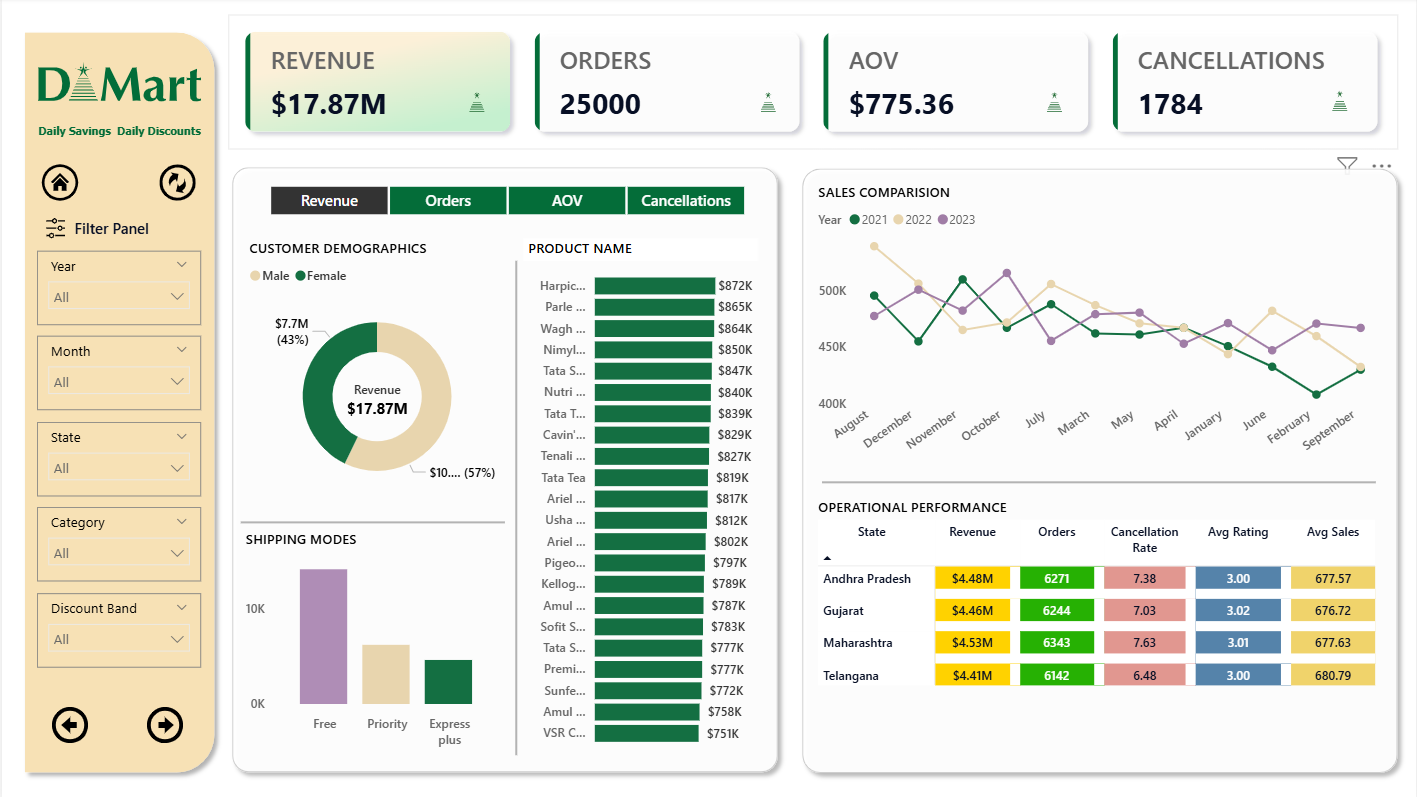

What the dashboard file says about the page in this screenshot:
{"tool":"powerbi","page":{"name":"Page 1","canvas":[1400,800],"ordinal":0},"visuals":[{"type":"shape","box":[13.5,25.5,205.6,750.4],"z":0},{"type":"image","box":[31.5,39,171.1,91.6],"z":1000},{"type":"cardVisual","fields":{"Data":["Dmart+Dataset_Tableau (1).Revenue","Dmart+Dataset_Tableau (1).Orders","Dmart+Dataset_Tableau (1).AOV","Dmart+Dataset_Tableau (1).Cancellations"]},"box":[224,17.4,1157,133],"z":2000},{"type":"image","box":[1417.2,104.9,25.9,25.9],"z":3000},{"type":"shape","box":[218.5,159.5,557.6,616.6],"z":4000},{"type":"donutChart","title":"CUSTOMER DEMOGRAPHICS","fields":{"Y":["Dmart+Dataset_Tableau (1).Revenue"],"Category":["Dmart+Dataset_Tableau (1).Gender"]},"box":[239.9,238.6,262.7,268.1],"z":5000},{"type":"slicer","fields":{"Values":["Metrics.Metrics"]},"box":[239.9,181,518.8,41.6],"z":6000},{"type":"cardVisual","fields":{"Data":["Dmart+Dataset_Tableau (1).Revenue"]},"box":[315,359.3,112.6,79.1],"z":7000},{"type":"barChart","title":"PRODUCT NAME","fields":{"Y":["Dmart+Dataset_Tableau (1).Revenue"],"Category":["Dmart+Dataset_Tableau (1).Product Name"]},"box":[516.1,238.6,231.9,512.1],"z":8000},{"type":"shape","box":[782.8,160.9,607,616],"z":9000},{"type":"lineChart","title":"SALES COMPARISION","fields":{"Category":["Dmart+Dataset_Tableau (1).Month"],"Series":["Dmart+Dataset_Tableau (1).Year"],"Y":["Dmart+Dataset_Tableau (1).Total Sales"]},"box":[803,183,564.3,286.9],"z":10000},{"type":"clusteredColumnChart","title":"SHIPPING MODES","fields":{"Category":["Dmart+Dataset_Tableau (1).Ship Mode"],"Y":["Dmart+Dataset_Tableau (1).Orders"]},"box":[235.9,526.8,261.4,223.9],"z":11000},{"type":"pivotTable","title":"OPERATIONAL PERFORMANCE","fields":{"Rows":["Dmart+Dataset_Tableau (1).State","Dmart+Dataset_Tableau (1).City"],"Values":["Dmart+Dataset_Tableau (1).Revenue","Dmart+Dataset_Tableau (1).Orders","Dmart+Dataset_Tableau (1).Cancellation Rate","Avg(Dmart+Dataset_Tableau (1).Rating)","Avg(Dmart+Dataset_Tableau (1).Sales)"]},"box":[803,494.6,564.3,248],"z":12000},{"type":"image","box":[455.8,88.5,29.5,29.5],"z":13000},{"type":"image","box":[1307,88,32.2,29.5],"z":14000},{"type":"image","box":[1026.8,88.5,29.5,29.5],"z":15000},{"type":"image","box":[744,88.5,29.5,29.5],"z":16000},{"type":"textbox","box":[31.3,116.8,171.2,34],"z":17000},{"type":"shape","box":[235.9,506.7,261.4,25.5],"z":18000},{"type":"shape","box":[502.7,261.4,13.4,489.3],"z":19000},{"type":"shape","box":[811,475.9,548.3,8],"z":20000},{"type":"slicer","fields":{"Values":["Dmart+Dataset_Tableau (1).Year"]},"box":[34.9,250.7,162.2,73.7],"z":21000},{"type":"slicer","fields":{"Values":["Dmart+Dataset_Tableau (1).Month"]},"box":[34.9,335.1,162.2,73.7],"z":22000},{"type":"slicer","fields":{"Values":["Dmart+Dataset_Tableau (1).Category"]},"box":[34.9,505,162.2,73.7],"z":23000},{"type":"slicer","fields":{"Values":["Dmart+Dataset_Tableau (1).State"]},"box":[34.9,420.9,162.2,73.7],"z":24000},{"type":"slicer","fields":{"Values":["Dmart+Dataset_Tableau (1).Discount Band"]},"box":[34.9,590,162.2,73.7],"z":25000},{"type":"image","box":[34.9,160.9,45.6,45.6],"z":26000},{"type":"image","box":[151.5,160.9,45.6,45.6],"z":27000},{"type":"image","box":[138.1,697.1,45.6,45.6],"z":28000},{"type":"image","box":[44.2,697.1,45.6,45.6],"z":29000},{"type":"textbox","box":[67,214.5,107.2,36.2],"z":30000},{"type":"image","box":[38.9,214.5,29.5,29.5],"z":31000}]}

Visuals, with their boxes in screenshot pixels (x1, y1, x2, y2), scaled from the page's 1400x800 canvas onto the 1417x797 screenshot:
shape: <region>14, 25, 222, 773</region>
image: <region>32, 39, 205, 130</region>
cardVisual - Dmart+Dataset_Tableau (1).Revenue x Dmart+Dataset_Tableau (1).Orders: <region>227, 17, 1398, 150</region>
shape: <region>221, 159, 786, 773</region>
"CUSTOMER DEMOGRAPHICS" donutChart: <region>243, 238, 509, 505</region>
slicer - Metrics.Metrics: <region>243, 180, 768, 222</region>
cardVisual - Dmart+Dataset_Tableau (1).Revenue: <region>319, 358, 433, 437</region>
"PRODUCT NAME" barChart: <region>522, 238, 757, 748</region>
shape: <region>792, 160, 1407, 774</region>
"SALES COMPARISION" lineChart: <region>813, 182, 1384, 468</region>
"SHIPPING MODES" clusteredColumnChart: <region>239, 525, 503, 748</region>
"OPERATIONAL PERFORMANCE" pivotTable: <region>813, 493, 1384, 740</region>
image: <region>461, 88, 491, 118</region>
image: <region>1323, 88, 1355, 117</region>
image: <region>1039, 88, 1069, 118</region>
image: <region>753, 88, 783, 118</region>
textbox: <region>32, 116, 205, 150</region>
shape: <region>239, 505, 503, 530</region>
shape: <region>509, 260, 522, 748</region>
shape: <region>821, 474, 1376, 482</region>
slicer - Dmart+Dataset_Tableau (1).Year: <region>35, 250, 199, 323</region>
slicer - Dmart+Dataset_Tableau (1).Month: <region>35, 334, 199, 407</region>
slicer - Dmart+Dataset_Tableau (1).Category: <region>35, 503, 199, 577</region>
slicer - Dmart+Dataset_Tableau (1).State: <region>35, 419, 199, 493</region>
slicer - Dmart+Dataset_Tableau (1).Discount Band: <region>35, 588, 199, 661</region>
image: <region>35, 160, 81, 206</region>
image: <region>153, 160, 199, 206</region>
image: <region>140, 694, 186, 740</region>
image: <region>45, 694, 91, 740</region>
textbox: <region>68, 214, 176, 250</region>
image: <region>39, 214, 69, 243</region>
